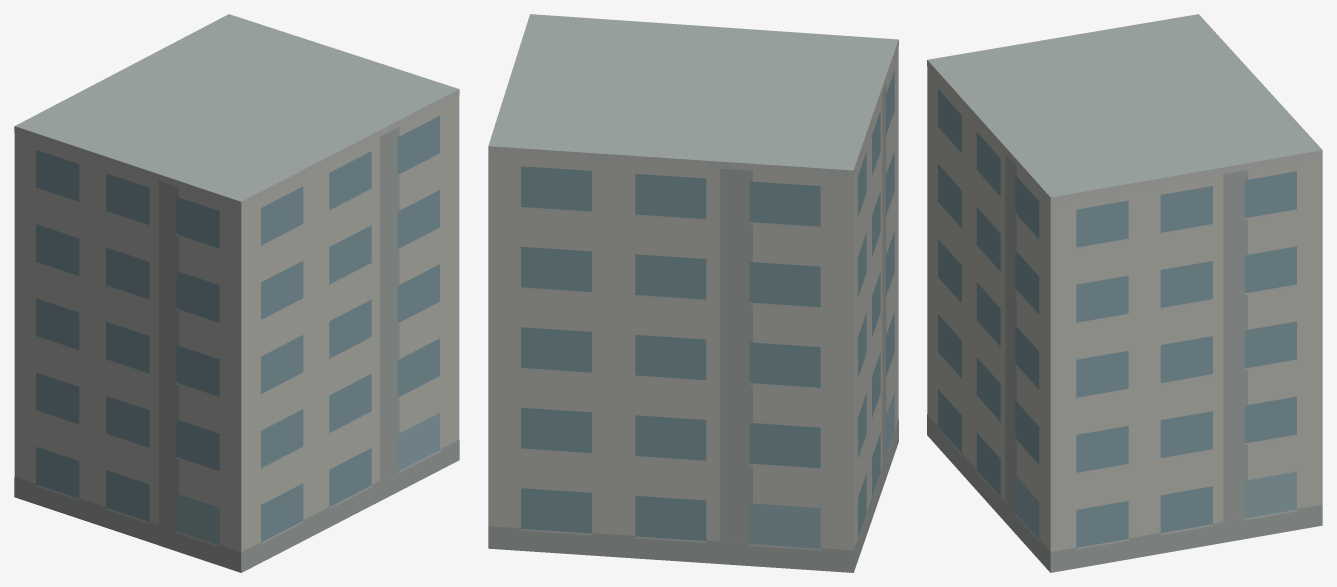
Rendered from survey-upis-32853670.glb.
The picture shows the model from 3 angles, left to right: view 1: azimuth 30°, elevation 25°; view 2: azimuth 150°, elevation 25°; view 3: azimuth 270°, elevation 25°; orthographic projection. The views are drawn at different scales.
Parts seen in each view (by area): view 1: survey-upis-32853670.tmp; view 2: survey-upis-32853670.tmp; view 3: survey-upis-32853670.tmp.
Part boxes in pixels (left/top/right/bottom): survey-upis-32853670.tmp: left=14, top=14, right=459, bottom=572; survey-upis-32853670.tmp: left=488, top=14, right=898, bottom=572; survey-upis-32853670.tmp: left=927, top=14, right=1322, bottom=572.
Size of the model in its own units: 14.46 by 13.79 by 13.18.
